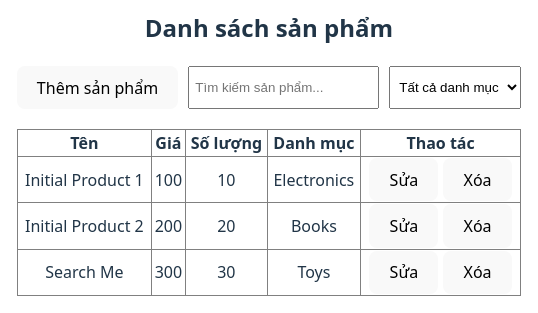
Product E2E Automation Testing › should allow a user to delete a product
The image size is (538, 313).
Click the button "Xóa" in the row of "Initial Product 2".
click(477, 226)  # box [443,204,511,247]
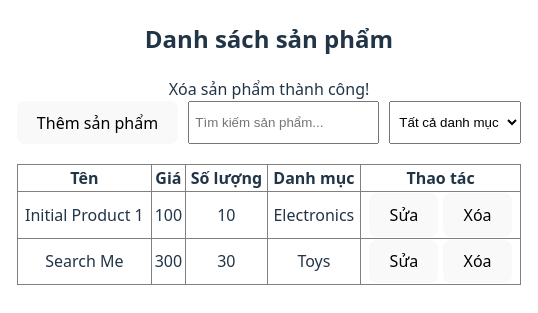
Now the cell no longer shows "Initial Product 2"
